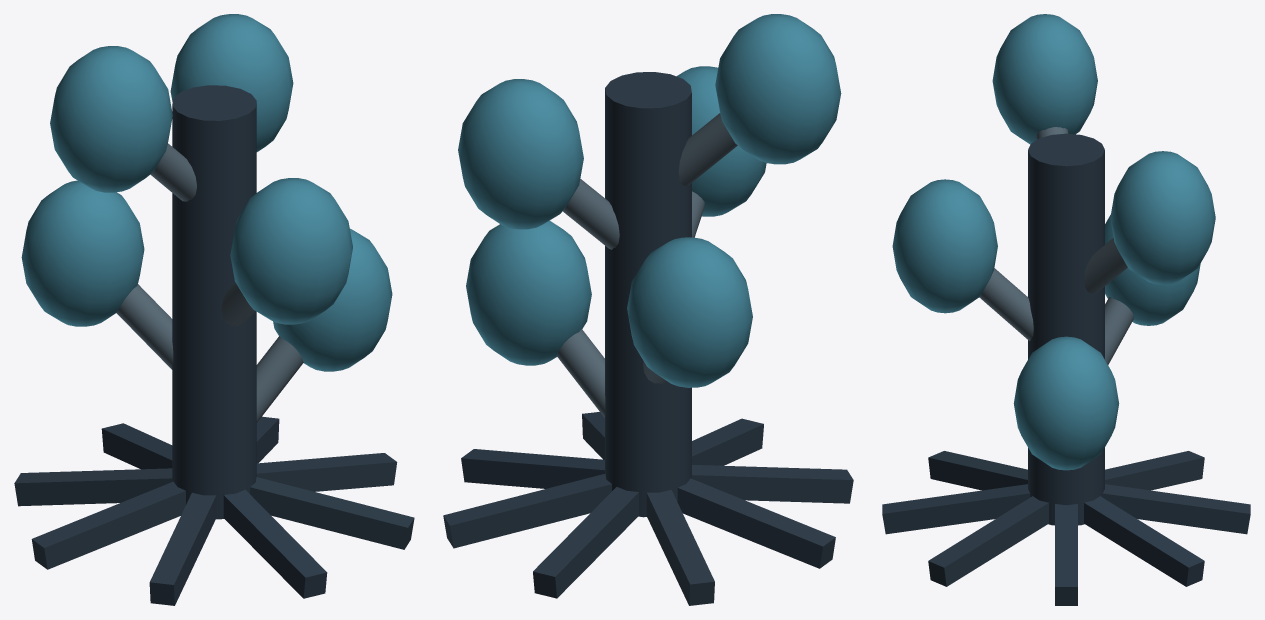
File: CMU3DHiveHivePlasmaTreeXeno.glb
3 renders of one model, left to right at view 1: azimuth 30°, elevation 25°; view 2: azimuth 150°, elevation 25°; view 3: azimuth 270°, elevation 25°, orthographic. The views are drawn at different scales.
Parts seen in each view (by area): view 1: nutrient sac (×5), anchoring root (×8), central branching trunk, raised organ branch (×4); view 2: nutrient sac (×5), anchoring root (×8), central branching trunk, raised organ branch (×3); view 3: nutrient sac (×5), anchoring root (×7), central branching trunk, raised organ branch (×3).
Part boxes in pixels (x1=…): nutrient sac (×5): x1=21, y1=14, x2=392, y2=371; anchoring root (×8): x1=14, y1=416, x2=414, y2=605; central branching trunk: x1=172, y1=85, x2=256, y2=519; raised organ branch (×4): x1=116, y1=143, x2=303, y2=422; nutrient sac (×5): x1=458, y1=14, x2=841, y2=387; anchoring root (×8): x1=443, y1=412, x2=853, y2=605; central branching trunk: x1=605, y1=72, x2=691, y2=517; raised organ branch (×3): x1=557, y1=113, x2=737, y2=417; nutrient sac (×5): x1=892, y1=14, x2=1215, y2=470; anchoring root (×7): x1=882, y1=451, x2=1250, y2=605; central branching trunk: x1=1028, y1=133, x2=1104, y2=525; raised organ branch (×3): x1=979, y1=238, x2=1133, y2=364.
Bounding box in the file's own units: 0.9085 × 1.25 × 0.9085.
